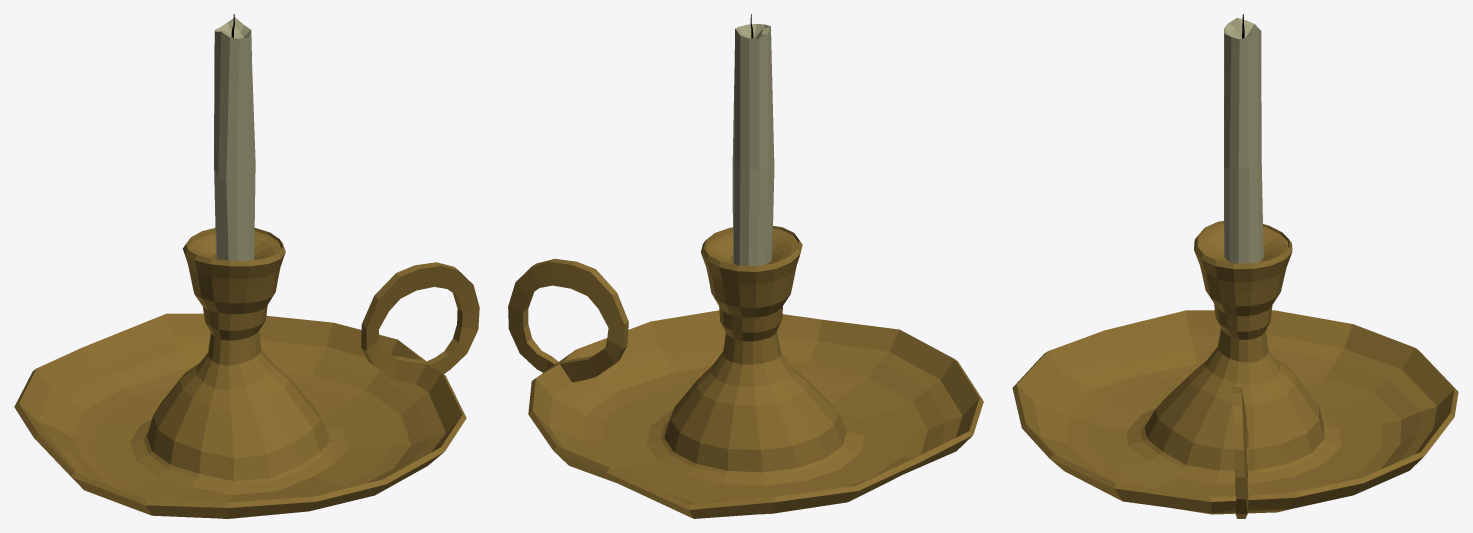
The model's file is candle holder.fbx.
3 views of the same model, side by side, from view 1: azimuth 30°, elevation 25°; view 2: azimuth 150°, elevation 25°; view 3: azimuth 270°, elevation 25° (orthographic).
Parts seen in each view (by area): view 1: candle holder; view 2: candle holder; view 3: candle holder.
Part boxes in pixels (x1,y1,x2,y2): candle holder: (14, 14, 479, 518); candle holder: (508, 14, 983, 518); candle holder: (1012, 14, 1458, 518).
Bounding box in the file's own units: 31.5 × 30.21 × 28.3.
